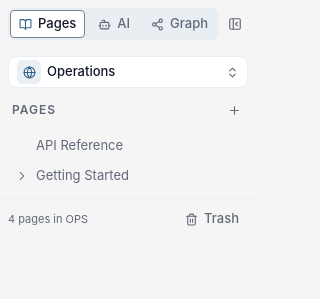
Test case: SidebarTreeView › still expands a collapsed parent when its title is clicked
The image size is (320, 299).
Expected: the text "Installation" is not shown
Click the text "Getting Started".
click(82, 175)  # box 36,167 -> 129,183
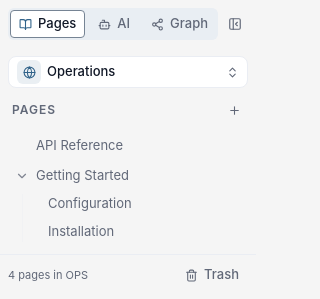
Expected: the text "Installation" is shown, 48,223 -> 114,239
